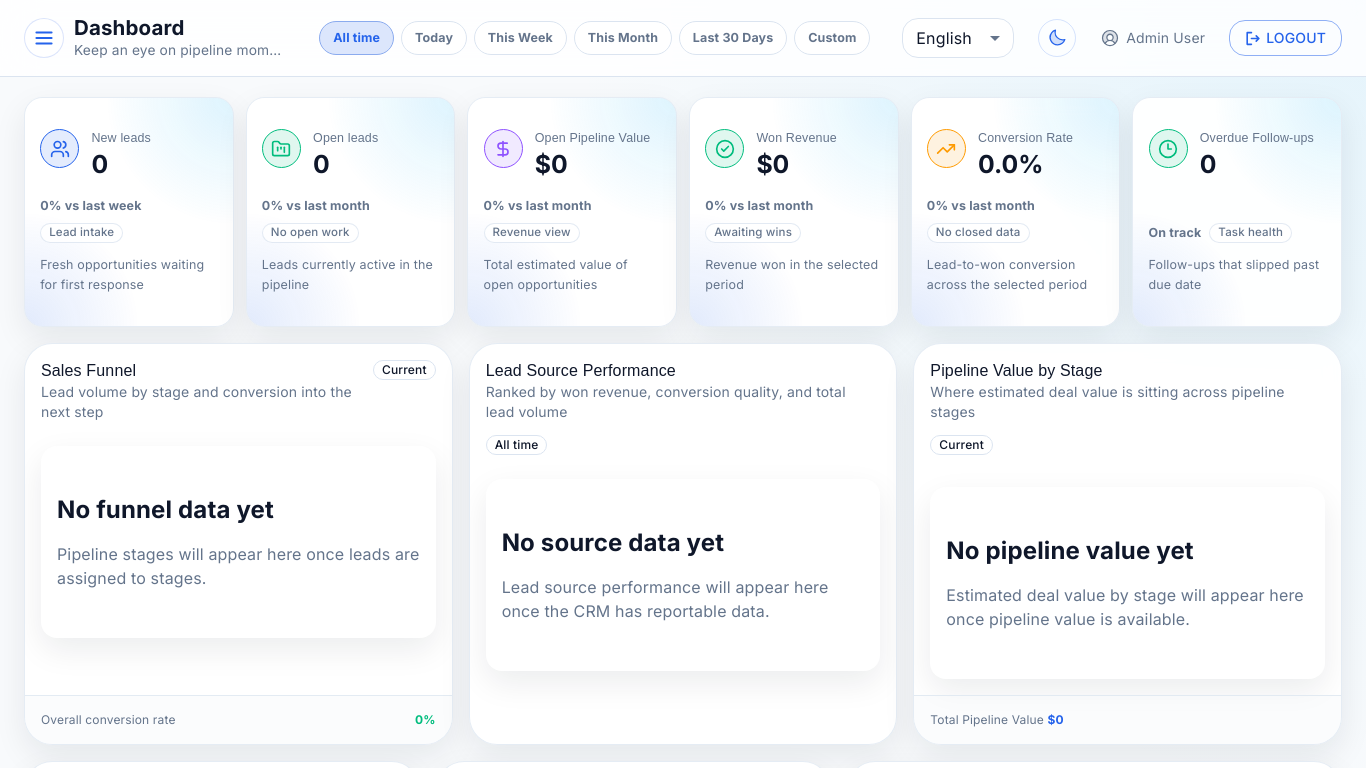
Auth flow › opens and closes the sidebar from a hamburger menu on smaller screens
Click the button named "Open navigation menu" at (44, 38), box [24, 18, 64, 58]
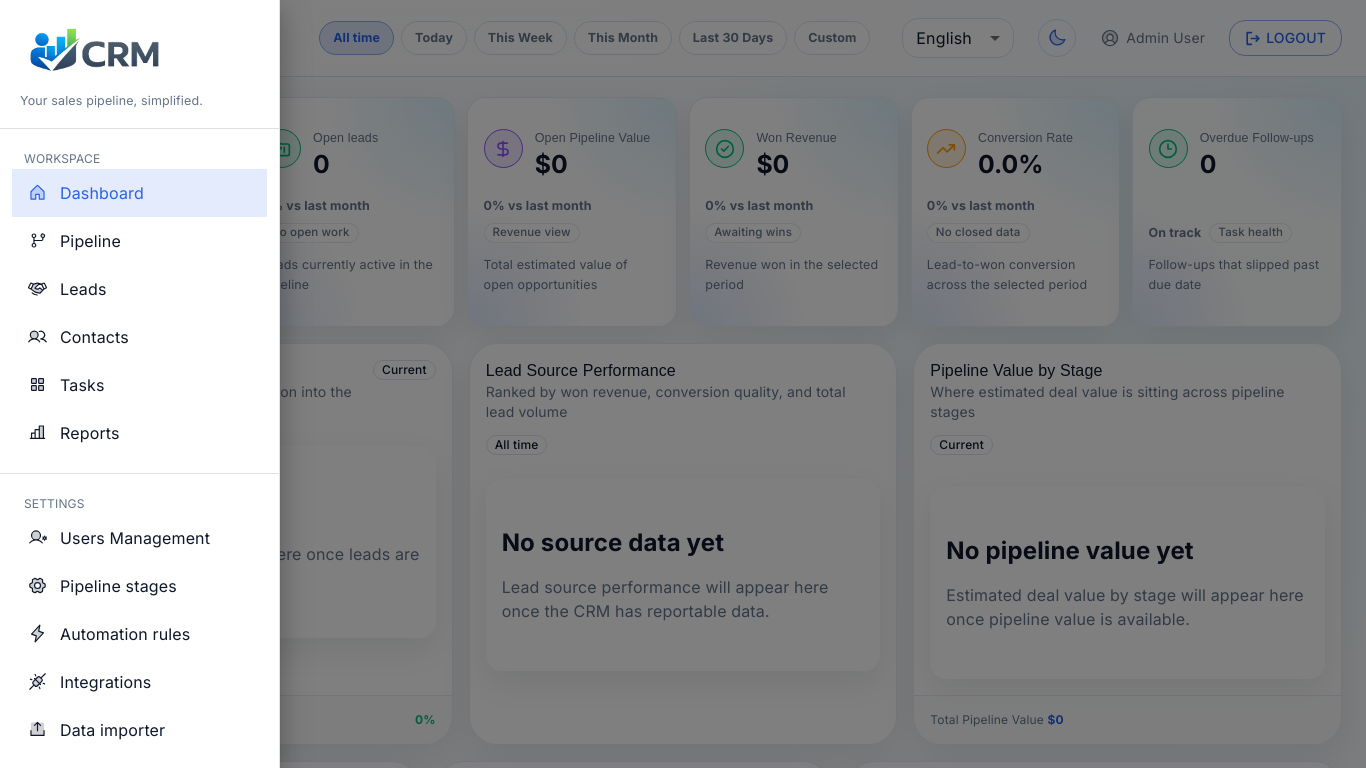
Now the link "Pipeline" is shown
Click the link "Pipeline" at (74, 241), box [28, 231, 121, 251]
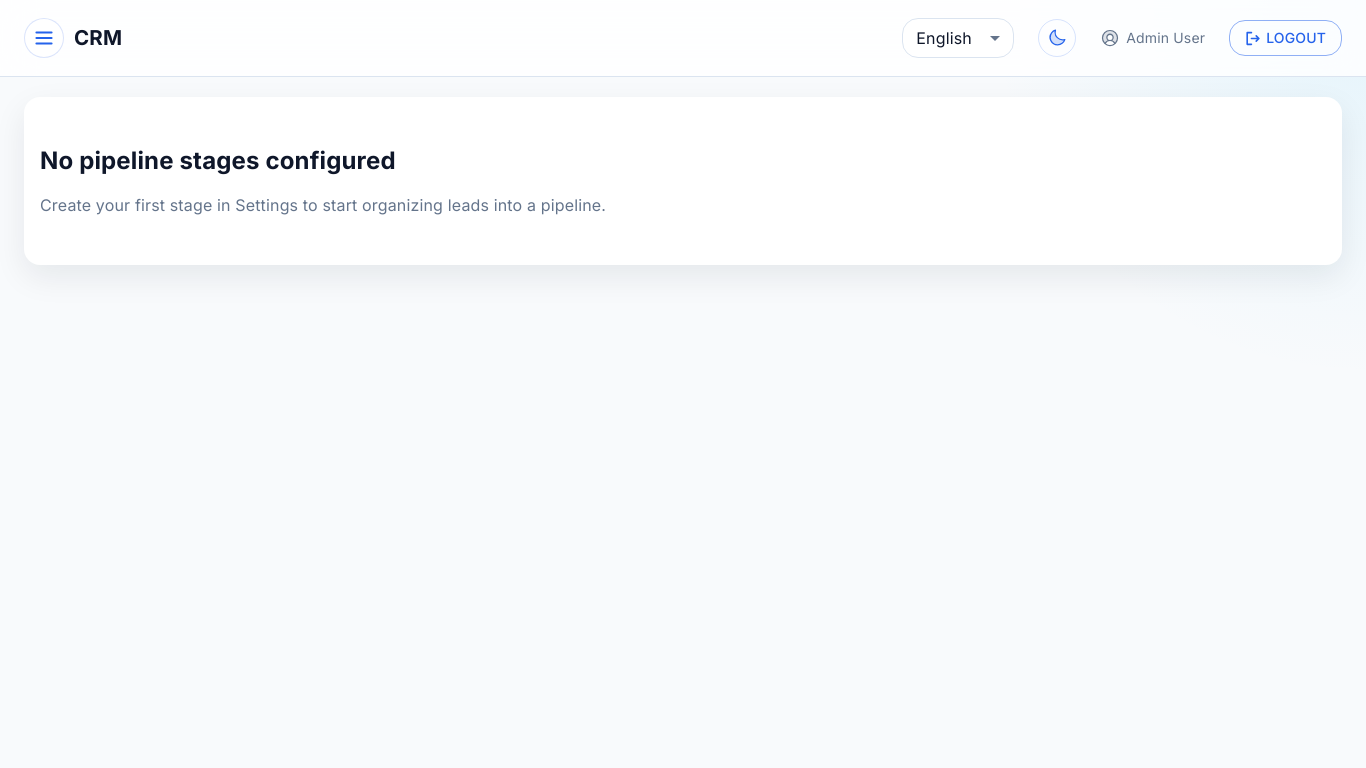
Now the heading "Dashboard" is gone
